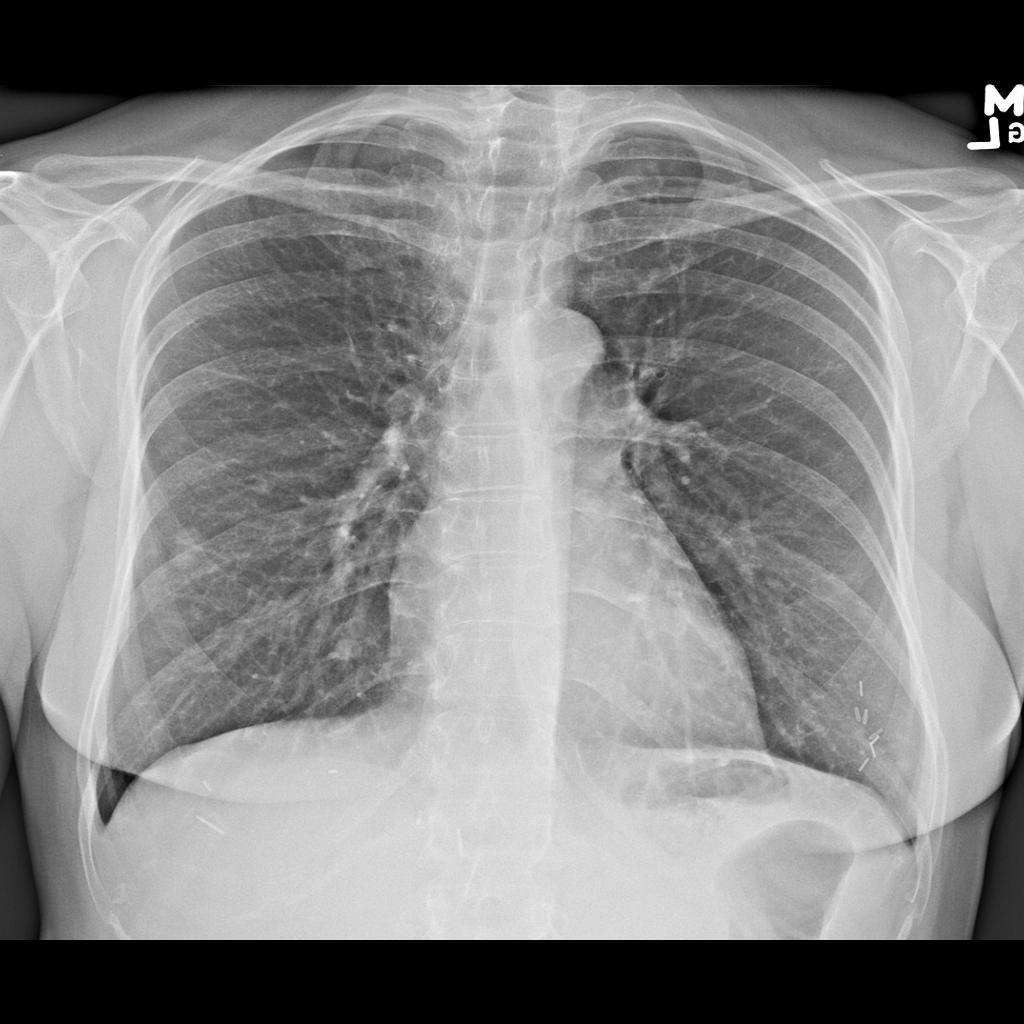Nodule: (170, 524, 214, 575)
